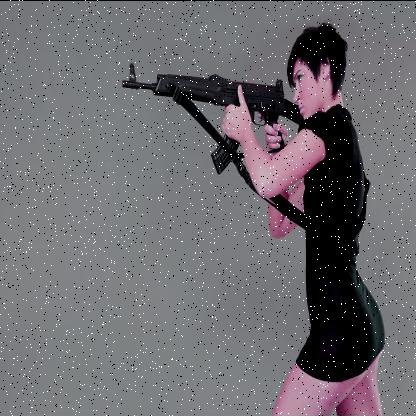rifle: (121, 57, 309, 175)
